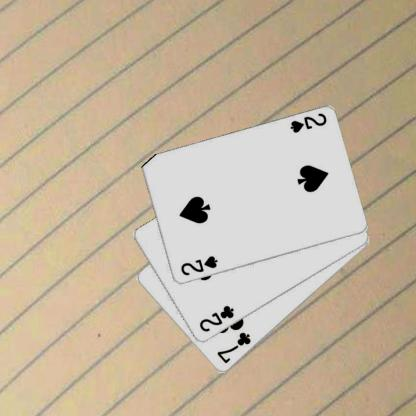2C: (197, 304, 236, 334)
2S: (178, 253, 218, 277), (287, 111, 328, 134)
7C: (214, 329, 252, 365)
